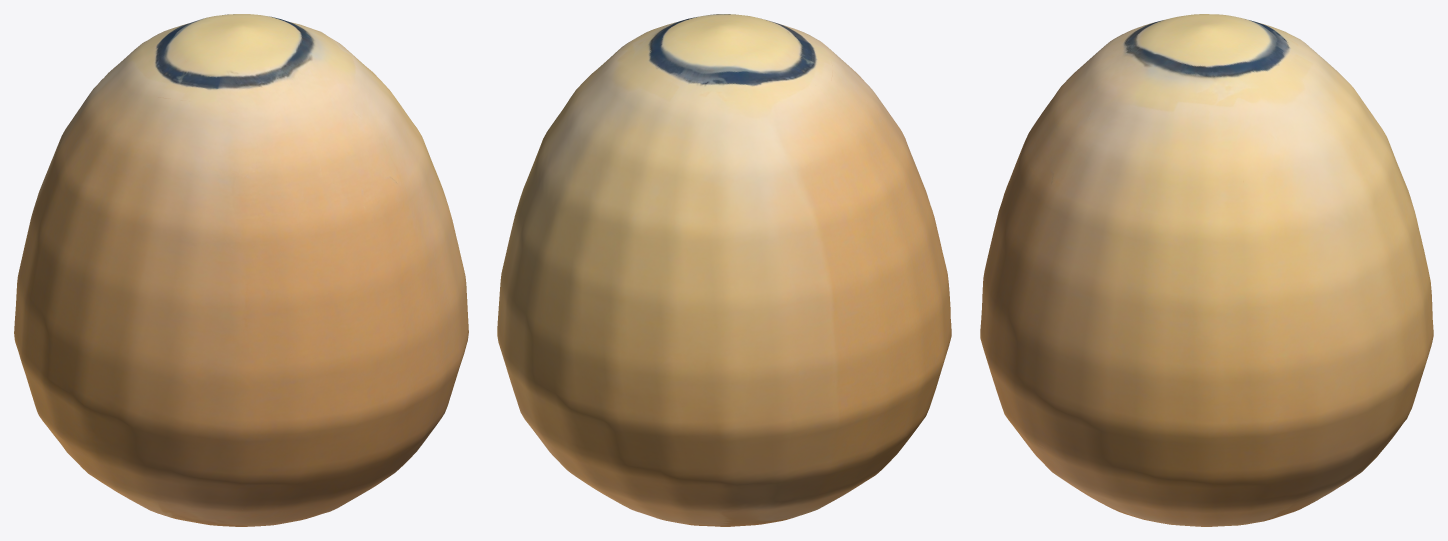
File: Meshy_AI_Egg_0306223519_texture.obj
3 renders of one model, left to right at view 1: azimuth 30°, elevation 25°; view 2: azimuth 150°, elevation 25°; view 3: azimuth 270°, elevation 25°, orthographic.
Parts seen in each view (by area): view 1: Meshy_AI_Egg_0306223519_texture; view 2: Meshy_AI_Egg_0306223519_texture; view 3: Meshy_AI_Egg_0306223519_texture.
Part boxes in pixels (x1,y1,x2,y2): Meshy_AI_Egg_0306223519_texture: (14,14,468,526); Meshy_AI_Egg_0306223519_texture: (497,14,951,526); Meshy_AI_Egg_0306223519_texture: (980,14,1433,526).
Bounding box in the file's own units: 1.72 × 2 × 1.72.
1 material, 1 textured.
